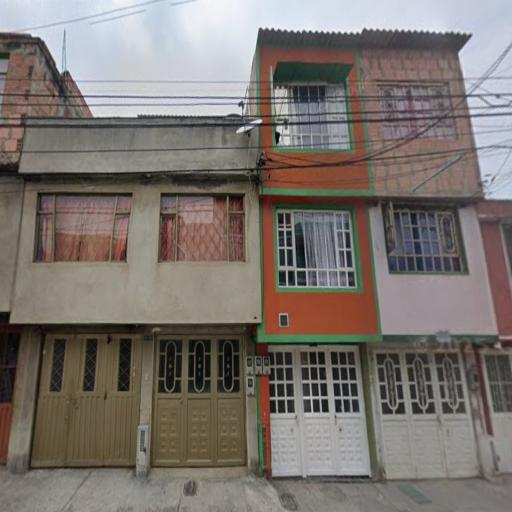Casa: (7, 112, 266, 477), (237, 31, 387, 489), (359, 25, 504, 483)
